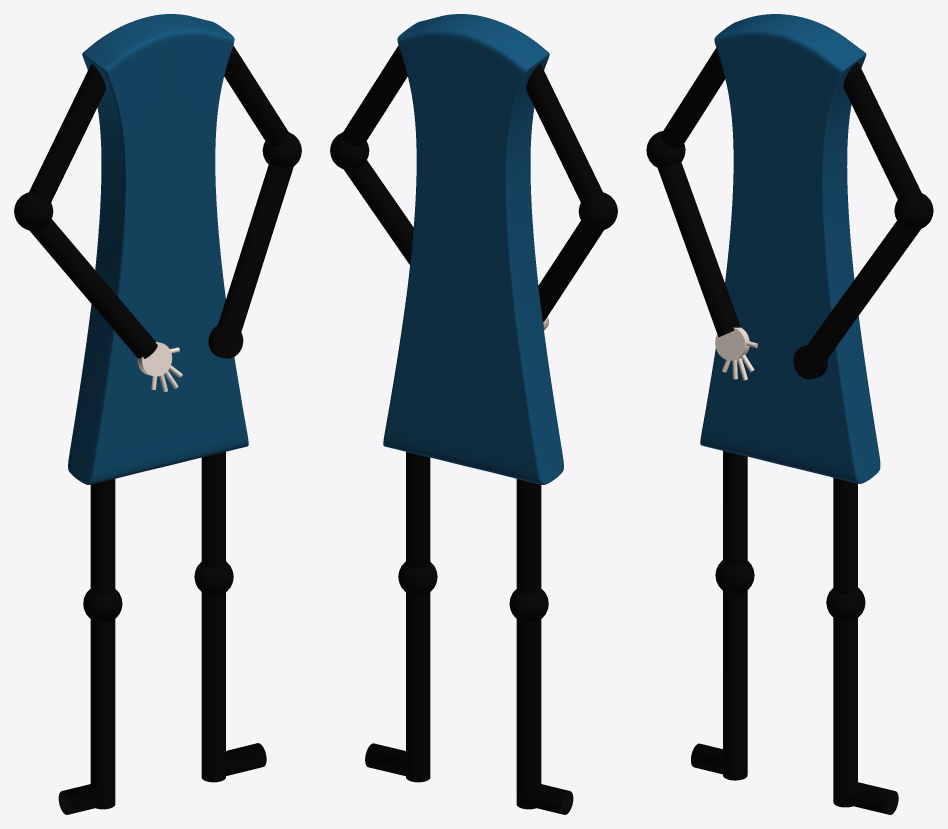
The picture shows the model from 3 angles, left to right: view 1: azimuth 30°, elevation 25°; view 2: azimuth 150°, elevation 25°; view 3: azimuth 330°, elevation 25°; orthographic projection.
Parts seen in each view (by area): view 1: MaleBody, leftForeLeg, rightForeLeg, LeftForeArm, RightForeArm, RightUpperArm, rightUpperLeg, LeftUpperLeg, LeftUpperArm, rightUpperArmSphere, rightFoot, leftFoot (+5 smaller); view 2: MaleBody, leftForeLeg, rightForeLeg, RightUpperArm, rightUpperLeg, LeftUpperLeg, LeftUpperArm, LeftForeArm, RightForeArm, rightUpperArmSphere, rightFoot, leftFoot (+3 smaller); view 3: MaleBody, rightForeLeg, RightForeArm, leftForeLeg, LeftForeArm, LeftUpperArm, LeftUpperLeg, rightUpperLeg, RightUpperArm, leftFoot, LeftUpperArmSphere, leftUpperLegSphere (+5 smaller).
Part boxes in pixels (<box>): MaleBody: <box>68,14,248,484</box>; leftForeLeg: <box>201,592,225,782</box>; rightForeLeg: <box>90,619,115,809</box>; LeftForeArm: <box>218,165,293,335</box>; RightForeArm: <box>30,219,157,358</box>; RightUpperArm: <box>28,64,105,202</box>; rightUpperLeg: <box>90,479,115,594</box>; LeftUpperLeg: <box>201,451,225,568</box>; LeftUpperArm: <box>224,45,290,145</box>; rightUpperArmSphere: <box>14,192,53,230</box>; rightFoot: <box>58,784,113,814</box>; leftFoot: <box>223,743,266,775</box>; MaleBody: <box>383,14,563,484</box>; leftForeLeg: <box>406,592,430,782</box>; rightForeLeg: <box>516,619,541,809</box>; RightUpperArm: <box>526,64,603,202</box>; rightUpperLeg: <box>516,479,541,594</box>; LeftUpperLeg: <box>406,451,430,568</box>; LeftUpperArm: <box>341,45,407,145</box>; LeftForeArm: <box>344,160,413,264</box>; RightForeArm: <box>538,221,603,321</box>; rightUpperArmSphere: <box>578,192,617,230</box>; rightFoot: <box>518,784,573,814</box>; leftFoot: <box>365,743,408,776</box>; MaleBody: <box>700,14,880,483</box>; rightForeLeg: <box>723,590,747,780</box>; RightForeArm: <box>657,162,740,337</box>; leftForeLeg: <box>833,618,857,807</box>; LeftForeArm: <box>805,221,920,361</box>; LeftUpperArm: <box>843,62,921,201</box>; LeftUpperLeg: <box>833,477,857,593</box>; rightUpperLeg: <box>723,451,747,566</box>; RightUpperArm: <box>661,48,725,148</box>; leftFoot: <box>844,782,898,814</box>; LeftUpperArmSphere: <box>894,193,933,229</box>; leftUpperLegSphere: <box>826,587,865,621</box>.
Bounding box in the file's own units: 133 × 345 × 36.69.
